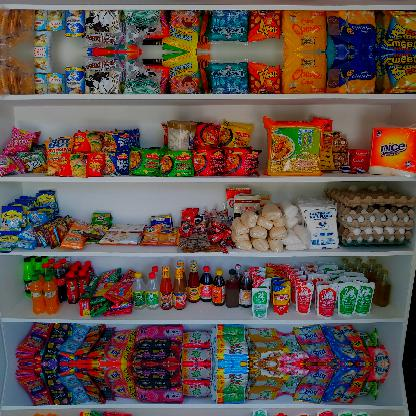Lady-s-Choice: (167, 121, 197, 152)
